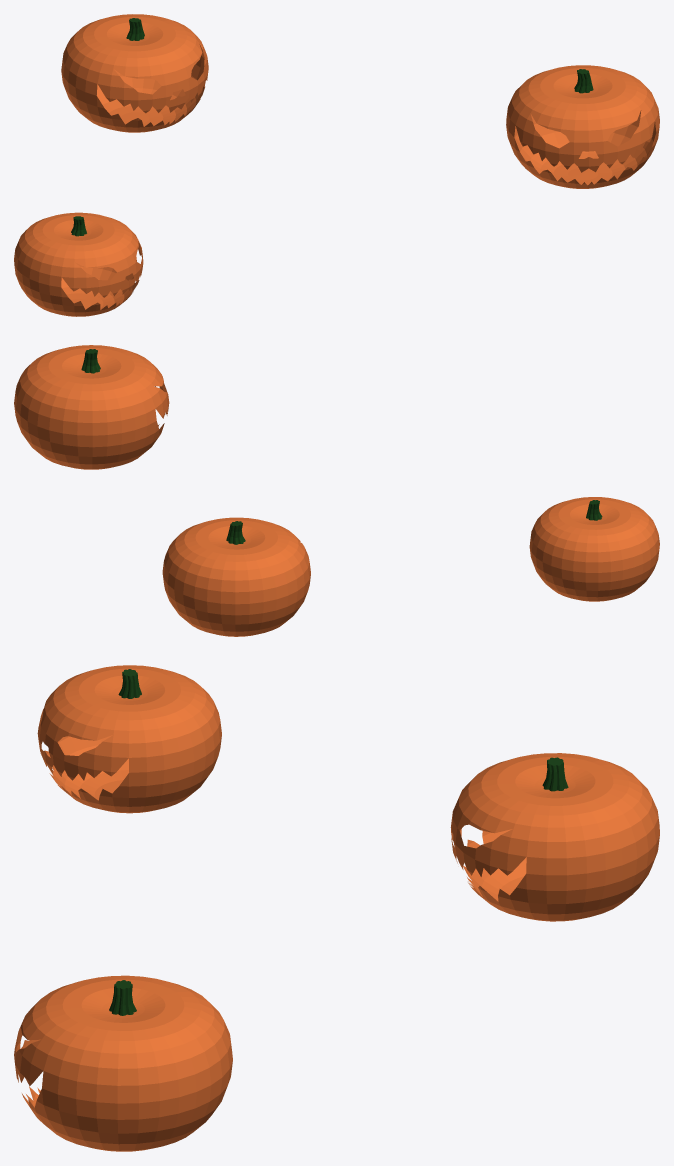
The model's file is pumpkins.glb.
3 views of the same model, one above another, from view 1: azimuth 30°, elevation 25°; view 2: azimuth 150°, elevation 25°; view 3: azimuth 270°, elevation 25° (orthographic). The views are drawn at different scales.
Visible parts, largest first — view 1: Pumpkin.001, Pumpkin.002, Pumpkin; view 2: Pumpkin.001, Pumpkin.002, Pumpkin; view 3: Pumpkin.001, Pumpkin.002, Pumpkin, Cylinder.001.
Part boxes in pixels (box(x1,y1,x2,y2)): Pumpkin.001: box(506, 65, 659, 188); Pumpkin.002: box(61, 14, 208, 132); Pumpkin: box(14, 212, 143, 316); Pumpkin.001: box(14, 345, 169, 469); Pumpkin.002: box(162, 517, 310, 636); Pumpkin: box(529, 497, 659, 601); Pumpkin.001: box(14, 975, 232, 1151); Pumpkin.002: box(450, 753, 659, 921); Pumpkin: box(37, 665, 221, 813); Cylinder.001: box(109, 980, 136, 1015).
Size of the model in its own units: 5.06 by 0.9659 by 3.19.
